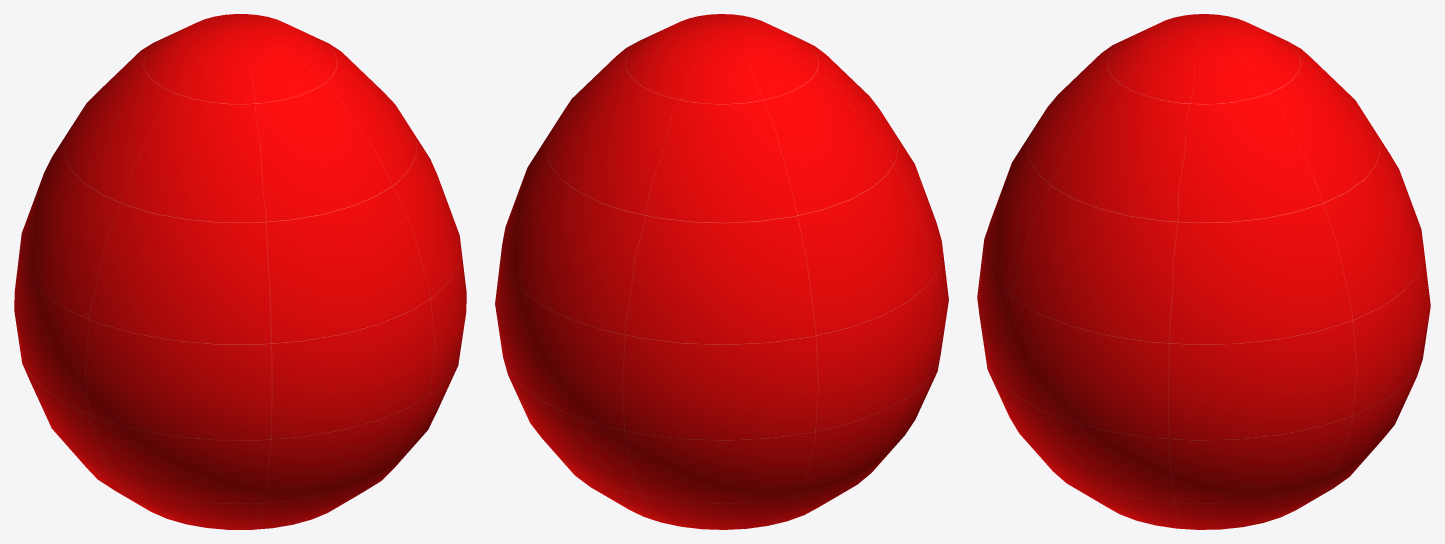
The model's file is Red Egg.gltf.
3 views of the same model, side by side, from view 1: azimuth 30°, elevation 25°; view 2: azimuth 150°, elevation 25°; view 3: azimuth 270°, elevation 25° (orthographic).
Visible parts, largest first — view 1: EGG; view 2: EGG; view 3: EGG.
Boxes of the visible parts, <box> form: EGG: <box>14,14,466,529</box>; EGG: <box>495,14,948,529</box>; EGG: <box>977,14,1430,529</box>.
Size of the model in its own units: 1.53 by 1.78 by 1.53.
1 material, 1 textured.
